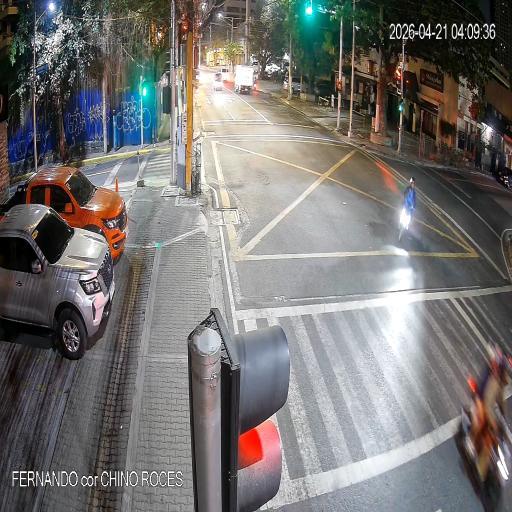Car: (0, 172, 117, 373), (20, 142, 132, 260), (232, 63, 254, 99), (209, 68, 229, 100), (217, 64, 234, 89)
Motor: (458, 320, 512, 511), (393, 170, 427, 266)
